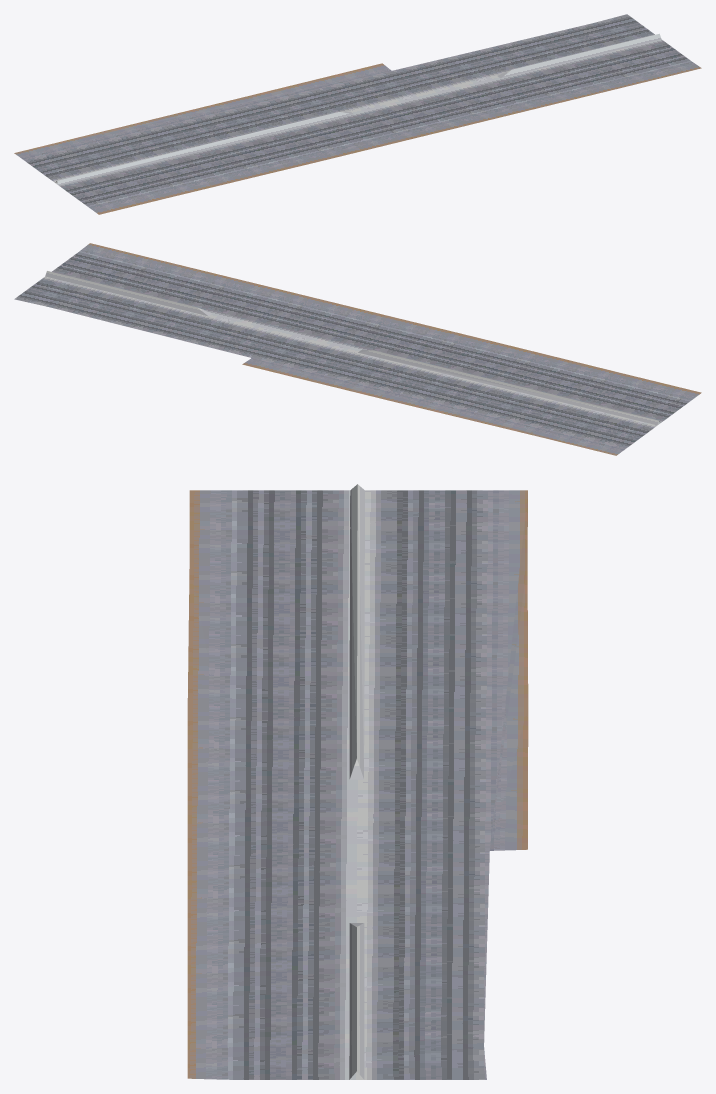
File: lodsspagjun08.obj
The picture shows the model from 3 angles, top to bottom: view 1: azimuth 30°, elevation 25°; view 2: azimuth 150°, elevation 25°; view 3: azimuth 270°, elevation 25°; orthographic projection. The views are drawn at different scales.
Parts seen in each view (by area): view 1: lodSspagjun08; view 2: lodSspagjun08; view 3: lodSspagjun08.
Boxes of the visible parts, bbox=[...] form: lodSspagjun08: bbox=[14, 14, 701, 214]; lodSspagjun08: bbox=[14, 243, 701, 455]; lodSspagjun08: bbox=[187, 484, 528, 1079].
Bounding box in the file's own units: 164 × 1.14 × 40.05.
2 materials, 2 textured.
